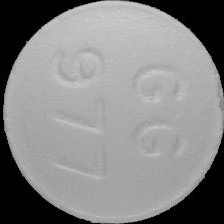55289-781: (0, 0, 224, 224)
